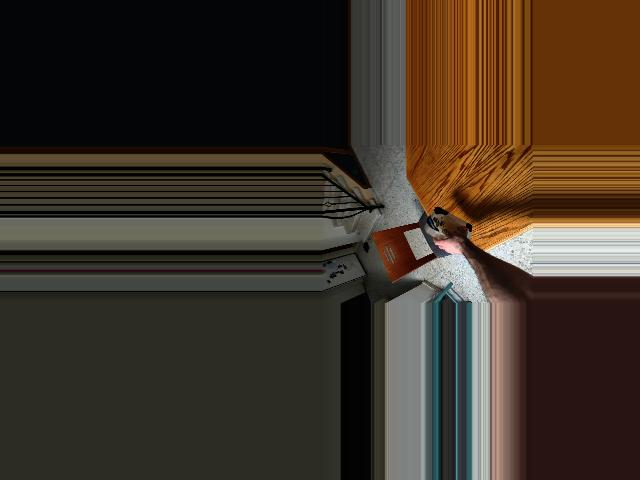cheese: (424, 207, 475, 253)
